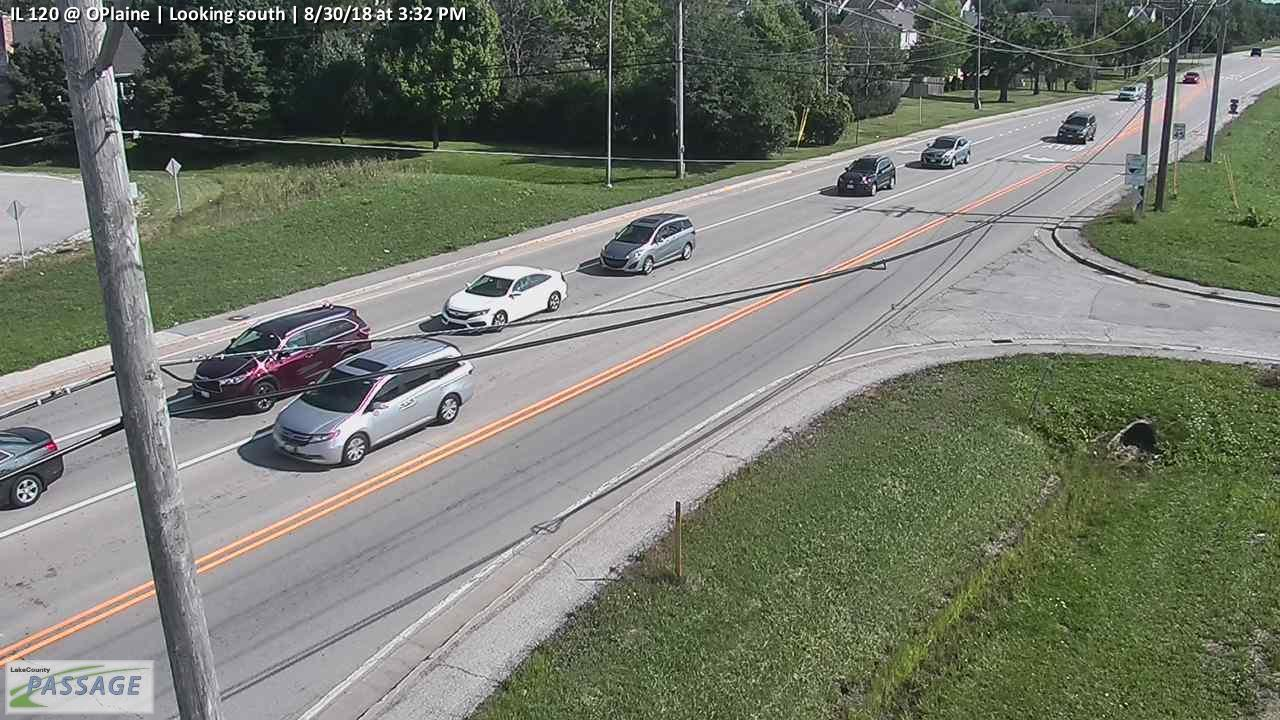SUV: (273, 334, 477, 468), (191, 304, 373, 412), (599, 213, 696, 274), (837, 155, 897, 196), (920, 135, 972, 170), (1056, 111, 1097, 145), (1118, 84, 1145, 101)
Sedan: (440, 264, 569, 333), (1184, 70, 1200, 84)
